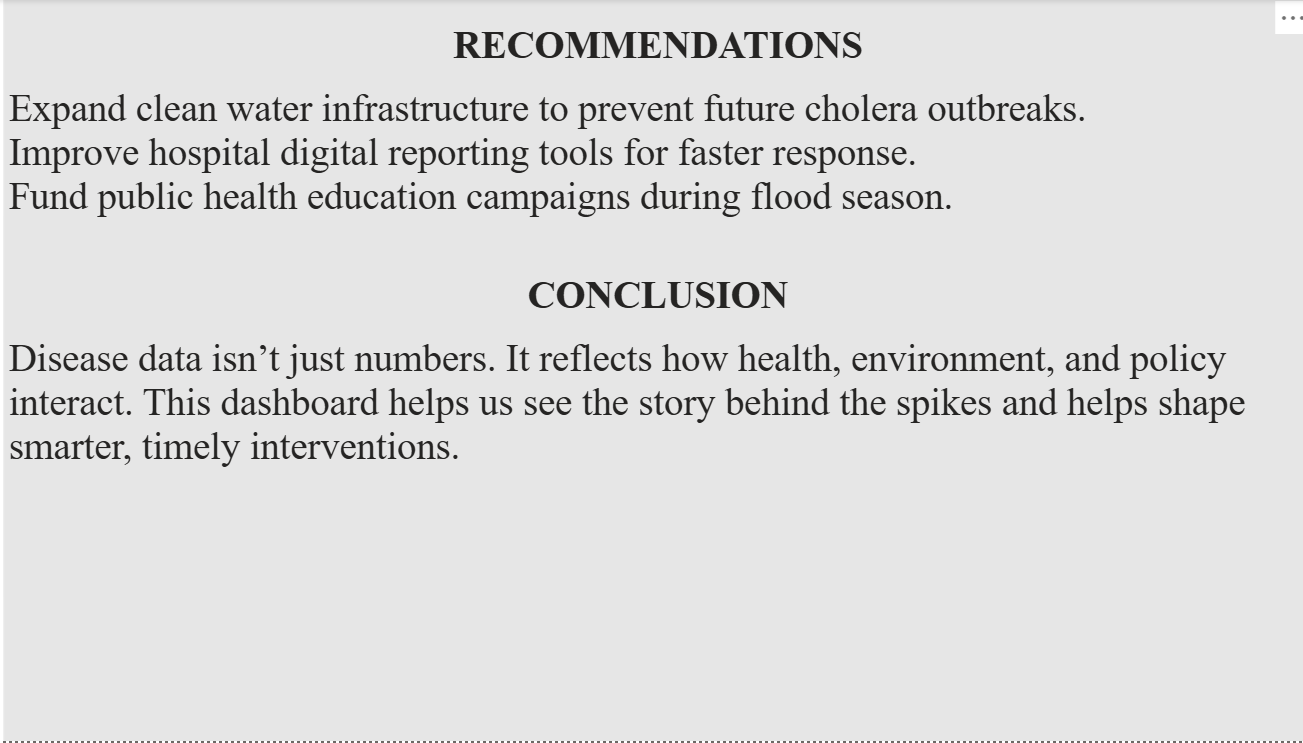

The dashboard page shown, as its layout file describes it:
{"tool":"powerbi","page":{"name":"Recommendations & Conclusion","canvas":[1280,720],"ordinal":6},"visuals":[{"type":"textbox","box":[10,0,1270.1,720.3],"z":0}]}

Visuals, with their boxes in screenshot pixels (x1, y1, x2, y2), scaled from the page's 1280x720 canvas onto the 1303x743 screenshot:
textbox: {"left": 10, "top": 0, "right": 1302, "bottom": 742}
